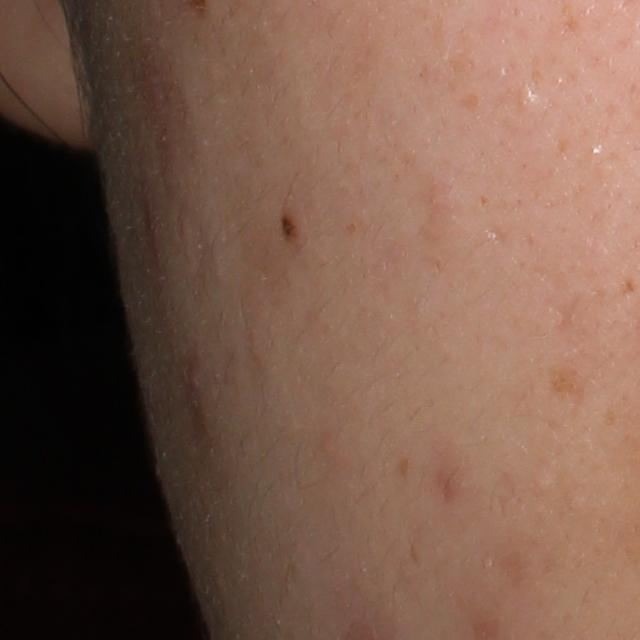atrophic_scar: (484, 227, 510, 245)
comedo: (517, 80, 536, 110)
nevus: (280, 209, 297, 244)
papule: (186, 371, 203, 396)
